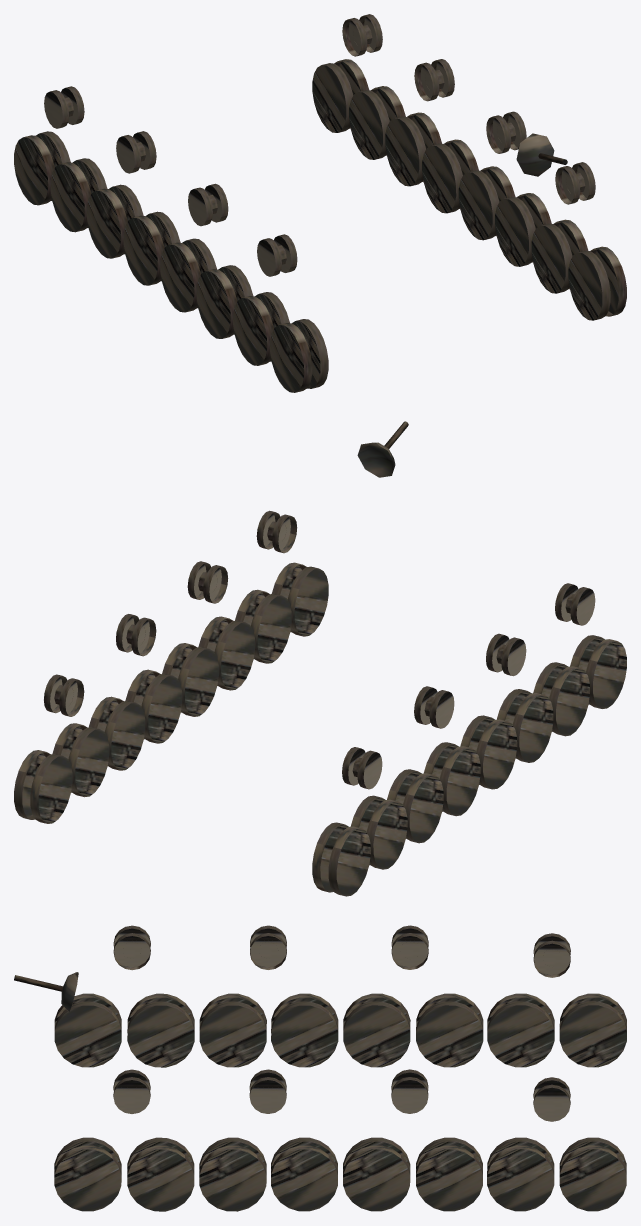
File: pz4_hull_m4.obj
3 renders of one model, top to bottom at view 1: azimuth 30°, elevation 25°; view 2: azimuth 150°, elevation 25°; view 3: azimuth 270°, elevation 25°, orthographic.
Visible parts, largest first — view 1: pz4_hull_m4; view 2: pz4_hull_m4; view 3: pz4_hull_m4.
Part boxes in pixels (x1,y1,x2,y2): pz4_hull_m4: (14, 14, 626, 392); pz4_hull_m4: (14, 421, 626, 896); pz4_hull_m4: (14, 925, 626, 1211).
Bounding box in the file's own units: 2.64 × 1.55 × 4.31.
Materials: 1 (1 with a texture image).
